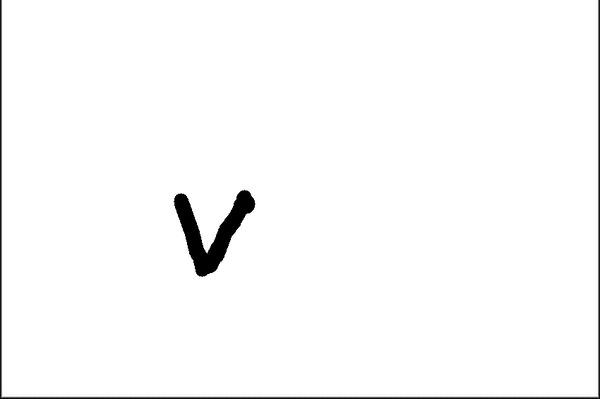V: (166, 185, 264, 278)
